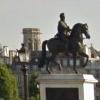Statue: (33, 7, 96, 76)
